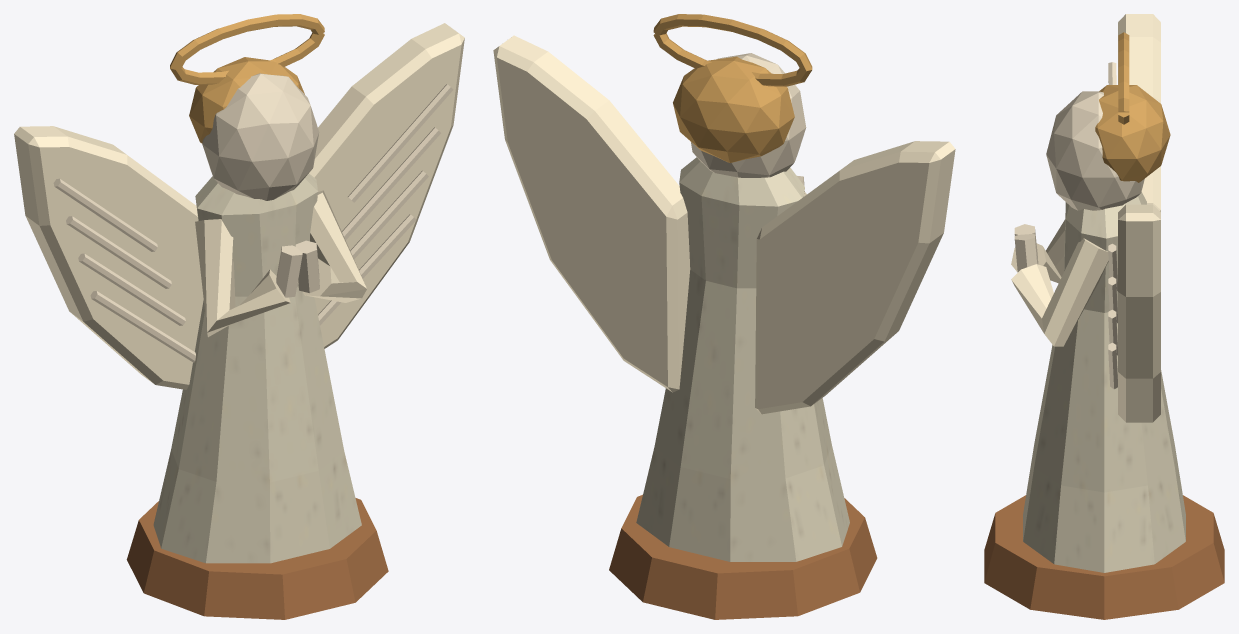
Rendered from angel_statue.glb.
3 renders of one model, left to right at view 1: azimuth 30°, elevation 25°; view 2: azimuth 150°, elevation 25°; view 3: azimuth 270°, elevation 25°, orthographic. The views are drawn at different scales.
Visible parts, largest first — view 1: angel_statue; view 2: angel_statue; view 3: angel_statue.
Boxes of the visible parts, x1,y1,x2,y2 form: angel_statue: [14, 14, 464, 619]; angel_statue: [493, 14, 955, 619]; angel_statue: [984, 14, 1224, 619].
Size of the model in its own units: 0.2489 by 0.2933 by 0.1236.
5 materials, 1 textured.
